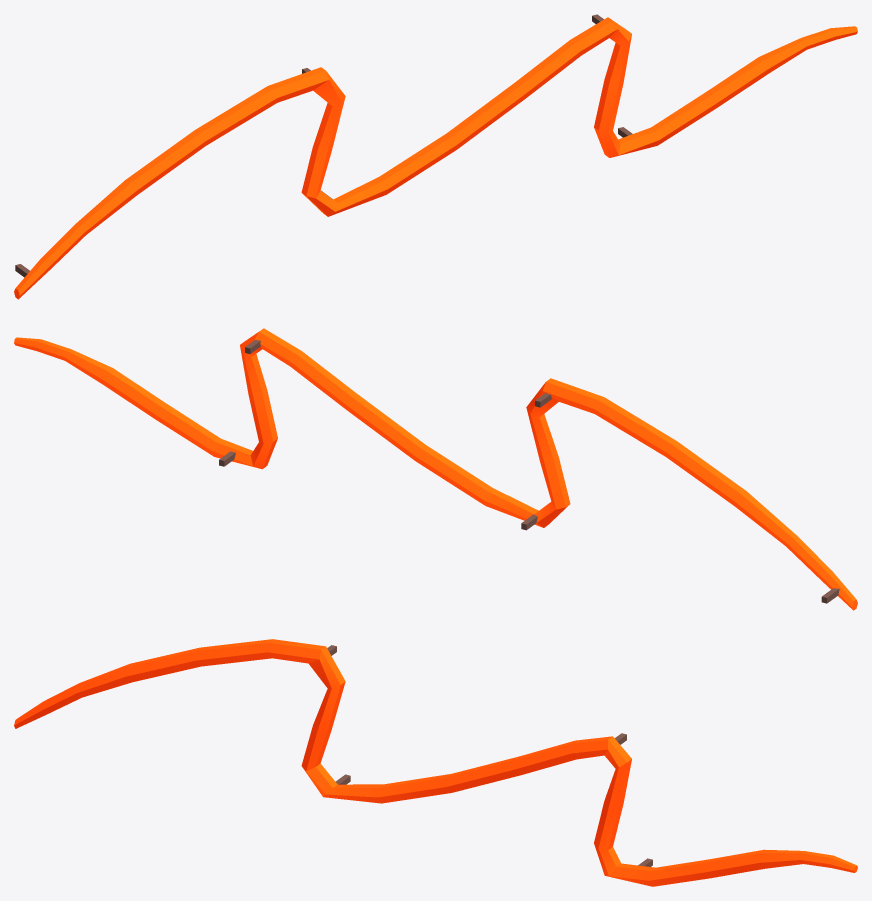
Rendered from NeonTube2.fbx.
3 views of the same model, one above another, from view 1: azimuth 30°, elevation 25°; view 2: azimuth 150°, elevation 25°; view 3: azimuth 330°, elevation 25° (orthographic).
Parts seen in each view (by area): view 1: NeonTube2; view 2: NeonTube2; view 3: NeonTube2.
Part boxes in pixels (<box>): NeonTube2: <box>14,14,857,299</box>; NeonTube2: <box>14,328,857,610</box>; NeonTube2: <box>14,639,857,886</box>.
Bounding box in the file's own units: 170 × 30.27 × 6.9.
